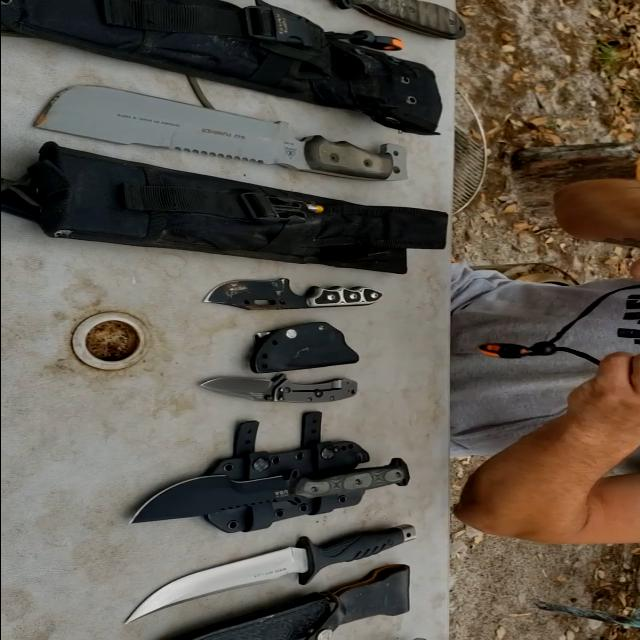knife: (28, 58, 484, 238), (130, 518, 430, 612), (128, 456, 438, 538), (195, 274, 395, 323), (198, 366, 374, 406)
